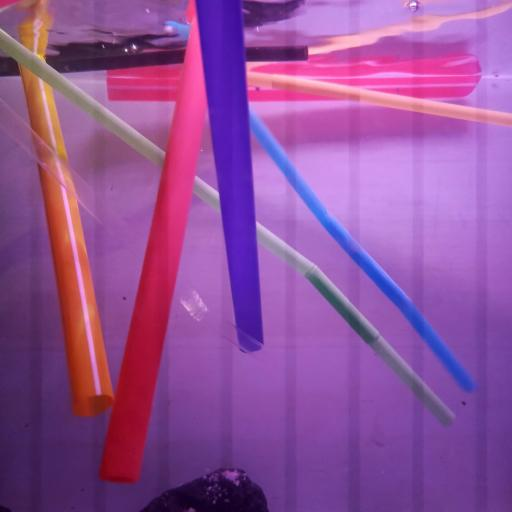plastic_straw: (0, 28, 456, 429), (0, 98, 264, 353), (249, 109, 476, 395), (98, 13, 208, 485), (16, 52, 114, 419), (196, 0, 266, 353), (106, 54, 483, 102), (246, 72, 512, 129), (0, 44, 309, 77)
